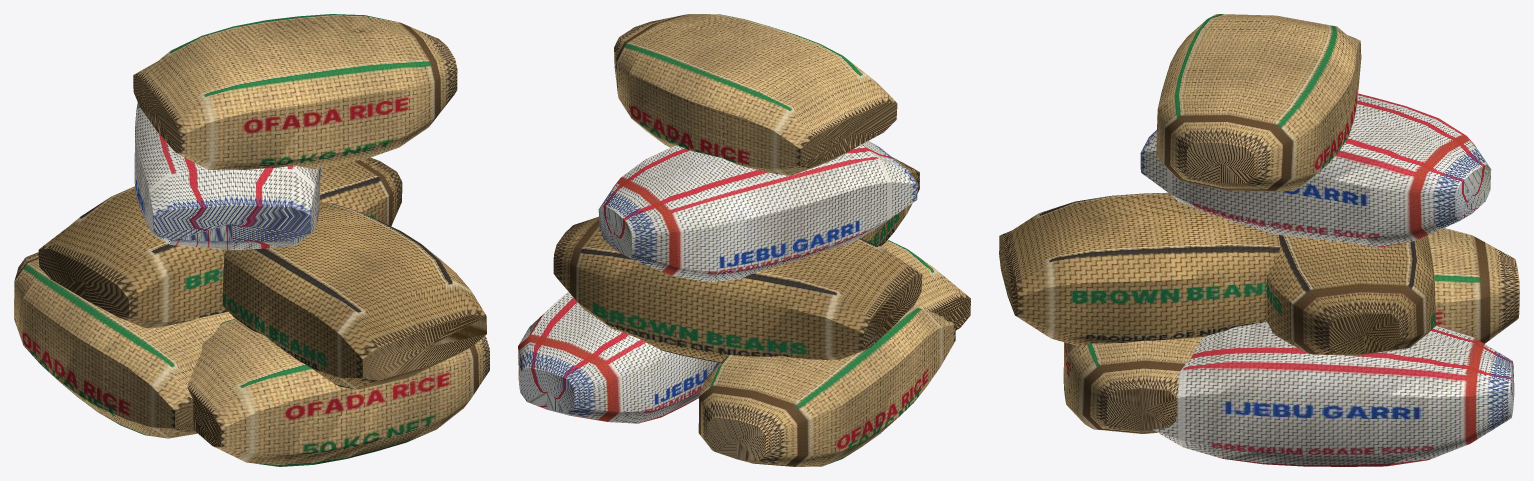
Rendered from prop_soft_sacks-Bf1Zf6VU.glb.
3 renders of one model, left to right at view 1: azimuth 30°, elevation 25°; view 2: azimuth 150°, elevation 25°; view 3: azimuth 270°, elevation 25°, orthographic. The views are drawn at different scales.
Parts seen in each view (by area): view 1: prop_soft_sacks_body; view 2: prop_soft_sacks_body; view 3: prop_soft_sacks_body.
Part boxes in pixels (box(x1,y1,x2,y2)): prop_soft_sacks_body: box(14, 14, 489, 466); prop_soft_sacks_body: box(518, 14, 970, 466); prop_soft_sacks_body: box(999, 14, 1519, 466).
Bounding box in the file's own units: 0.738 × 0.7498 × 0.9754.
1 material, 1 textured.
